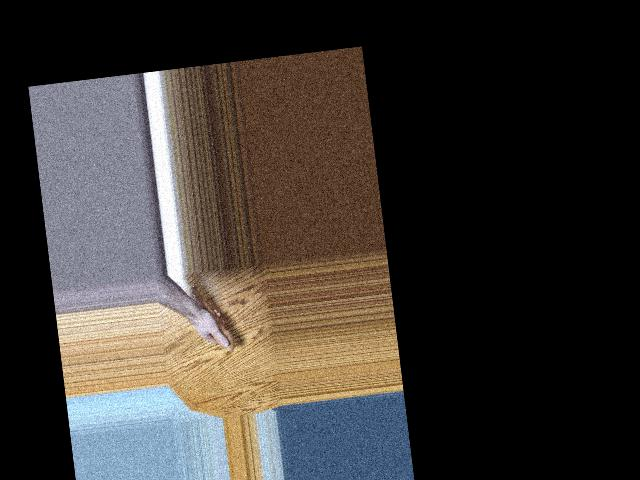sweet_potato: (187, 280, 233, 352)
